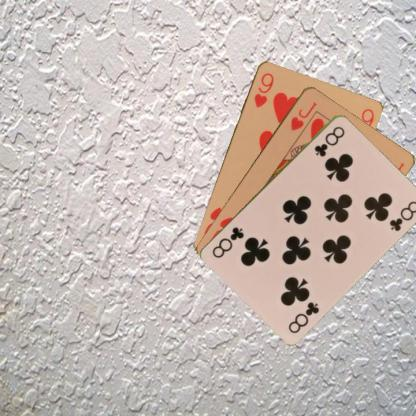8c: (286, 298, 320, 334), (312, 123, 346, 158)
9h: (251, 70, 275, 109)
Jh: (288, 99, 318, 132)
